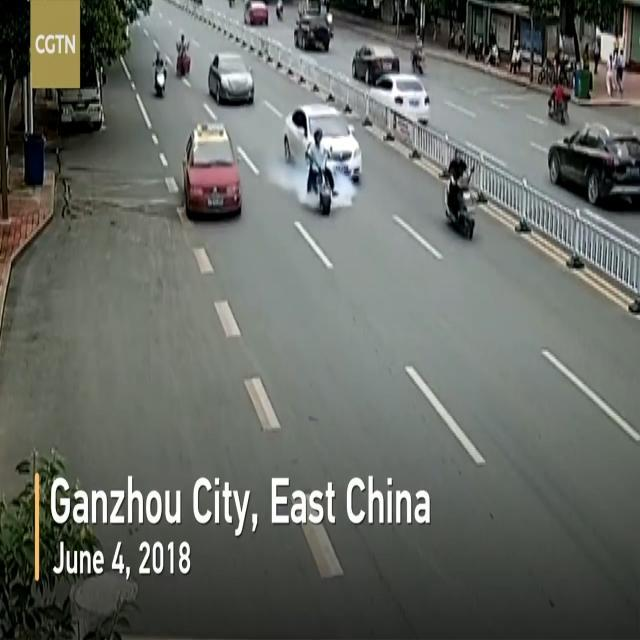Smoke: (270, 163, 319, 208), (332, 172, 356, 210)
